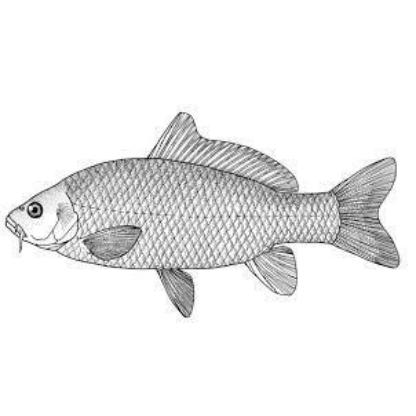ikan-mas: (5, 141, 397, 279)
